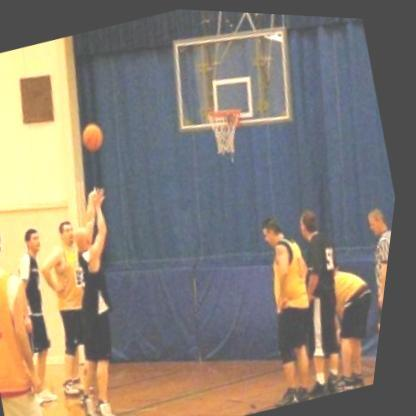basketball: (76, 114, 115, 156)
rim: (195, 99, 257, 159)
